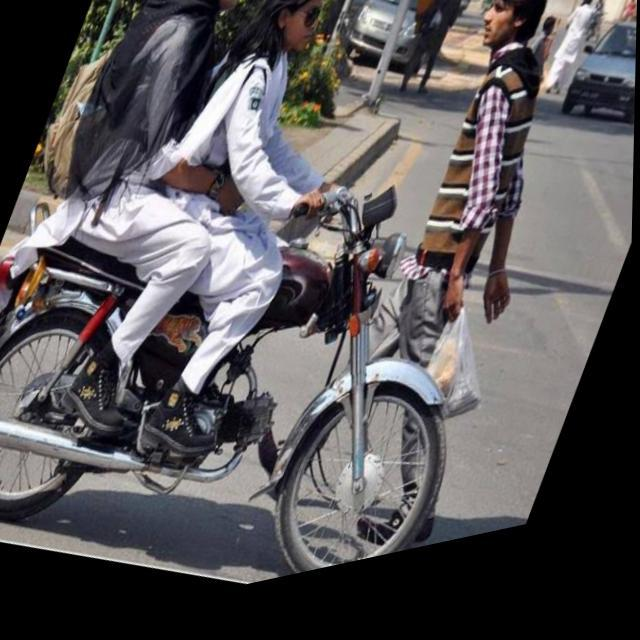Nonhelmet: (244, 0, 328, 64)
